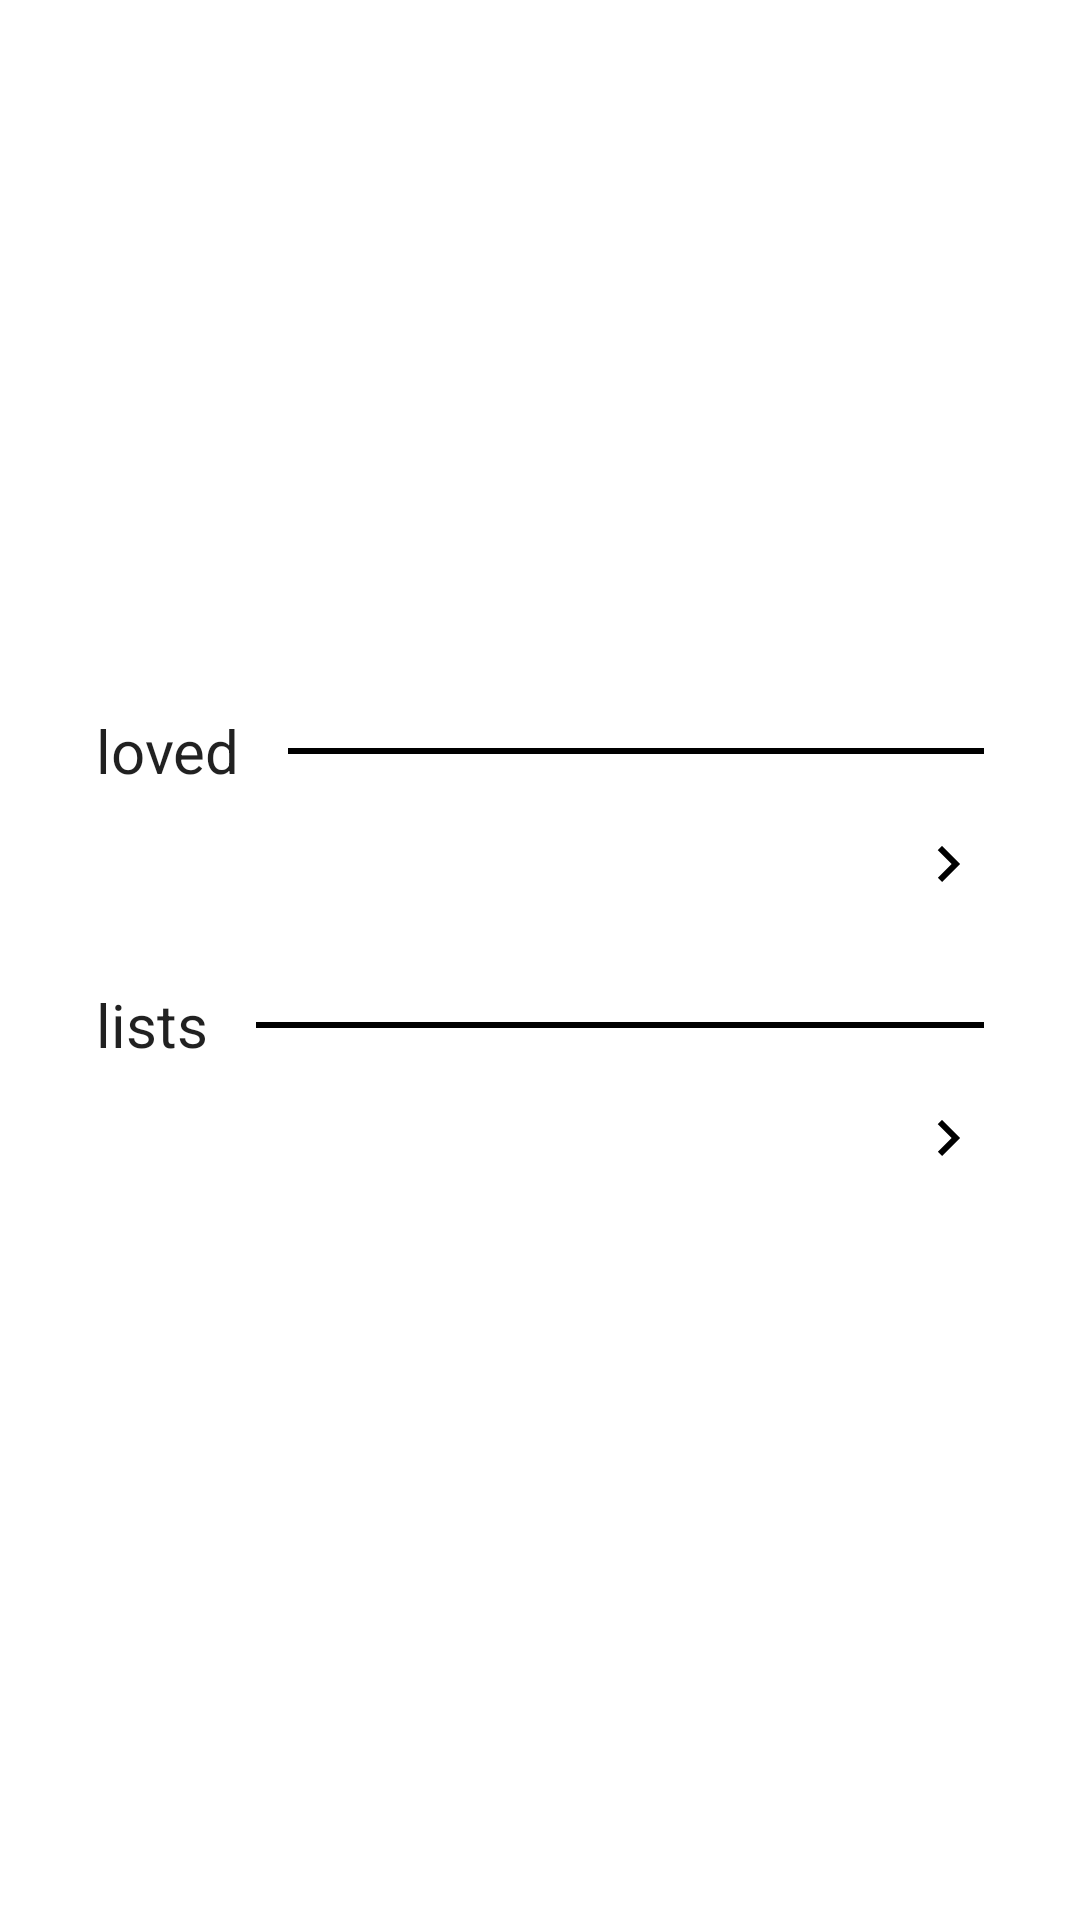

Icon bounding boxes for this 1080×1920 phone screenshot, format rect(x1, y1, x2, y2):
keyboard arrow right: rect(938, 846, 960, 882), rect(938, 1120, 960, 1156)
